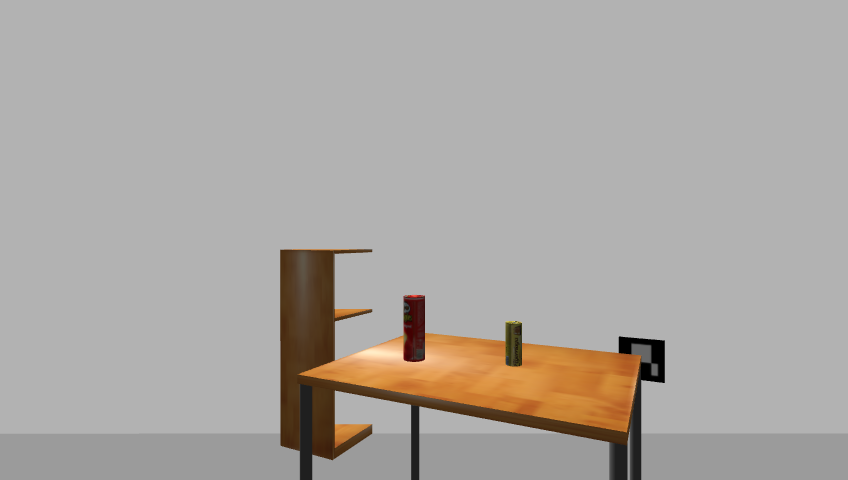aruco marker: (614, 334, 671, 385)
biscuits pack: (504, 321, 523, 368)
bookshelf: (275, 246, 379, 463)
dinner table: (289, 332, 650, 480)
pringles can: (401, 294, 428, 364)
